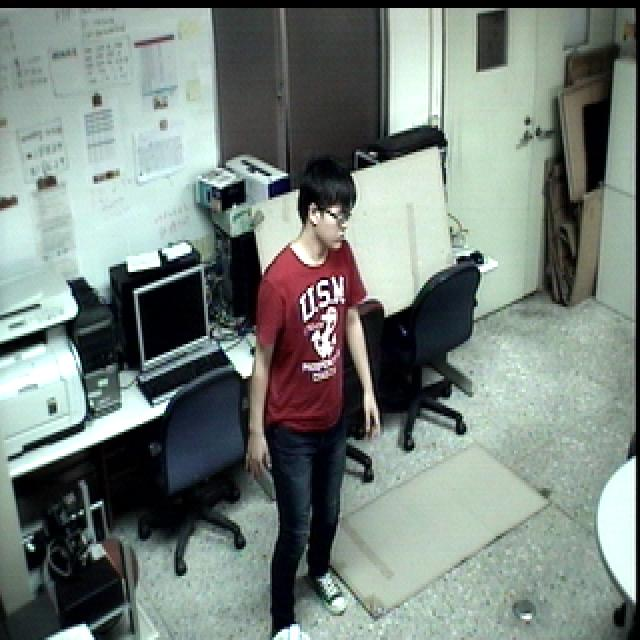stand: (236, 149, 385, 640)
